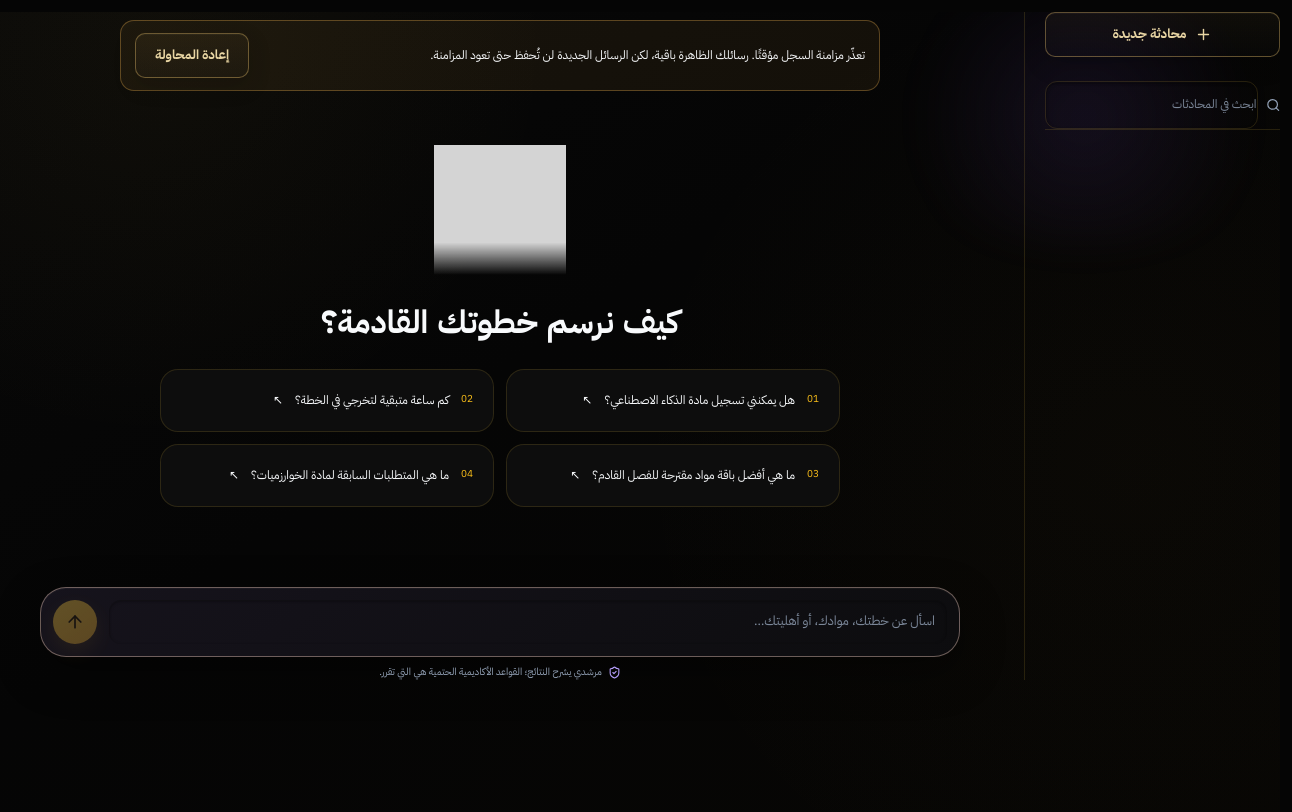
Test: student AI chat resilience › keeps history failure non-fatal and routes general chat through the student AI endpoint
Expected: the text "تعذّر مزامنة السجل مؤقتًا" is shown, x1=430 y1=46 x2=865 y2=64
In the text box named "الاستفسار الأكاديمي": {"x": 528, "y": 622} x1=109 y1=600 x2=947 y2=644, type "كيفك؟"
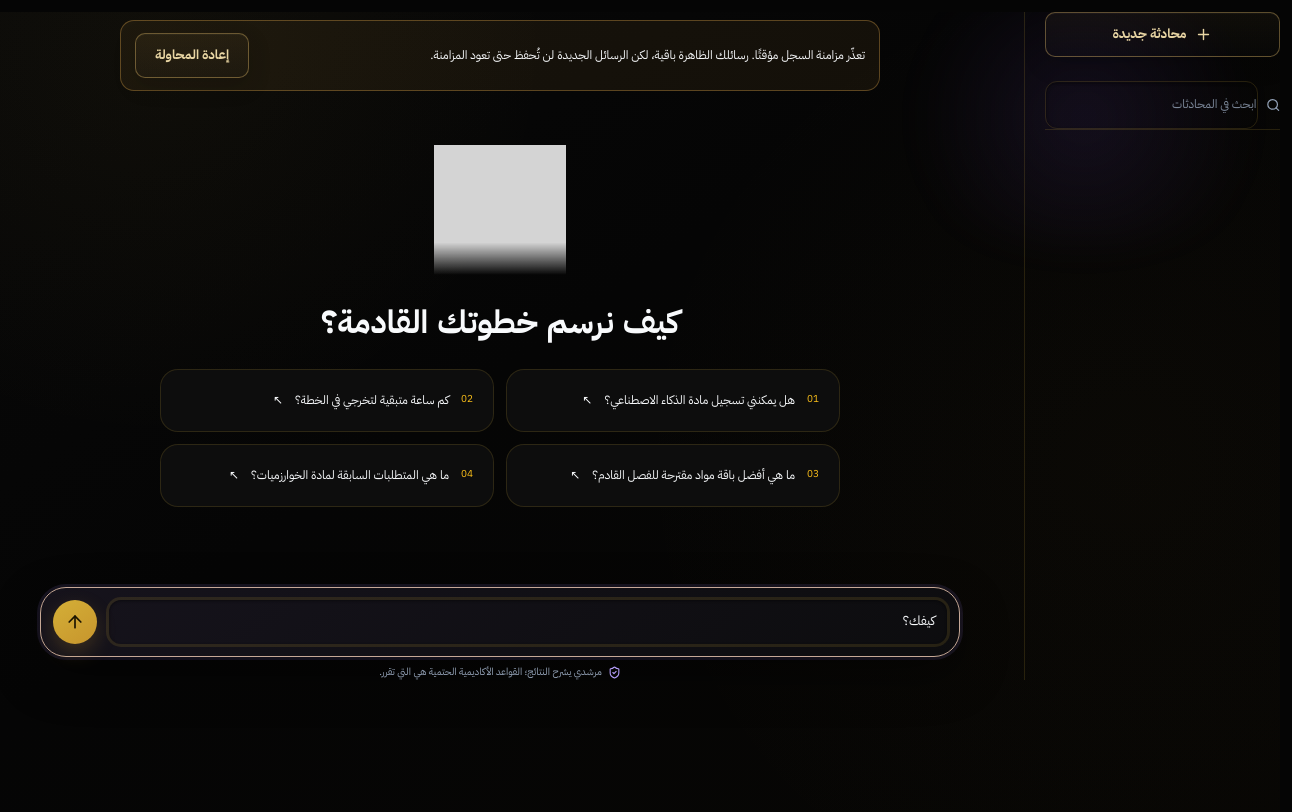
Result: the button named "إرسال" is enabled
Click the button named "إرسال": {"x": 75, "y": 622} x1=53 y1=600 x2=97 y2=644
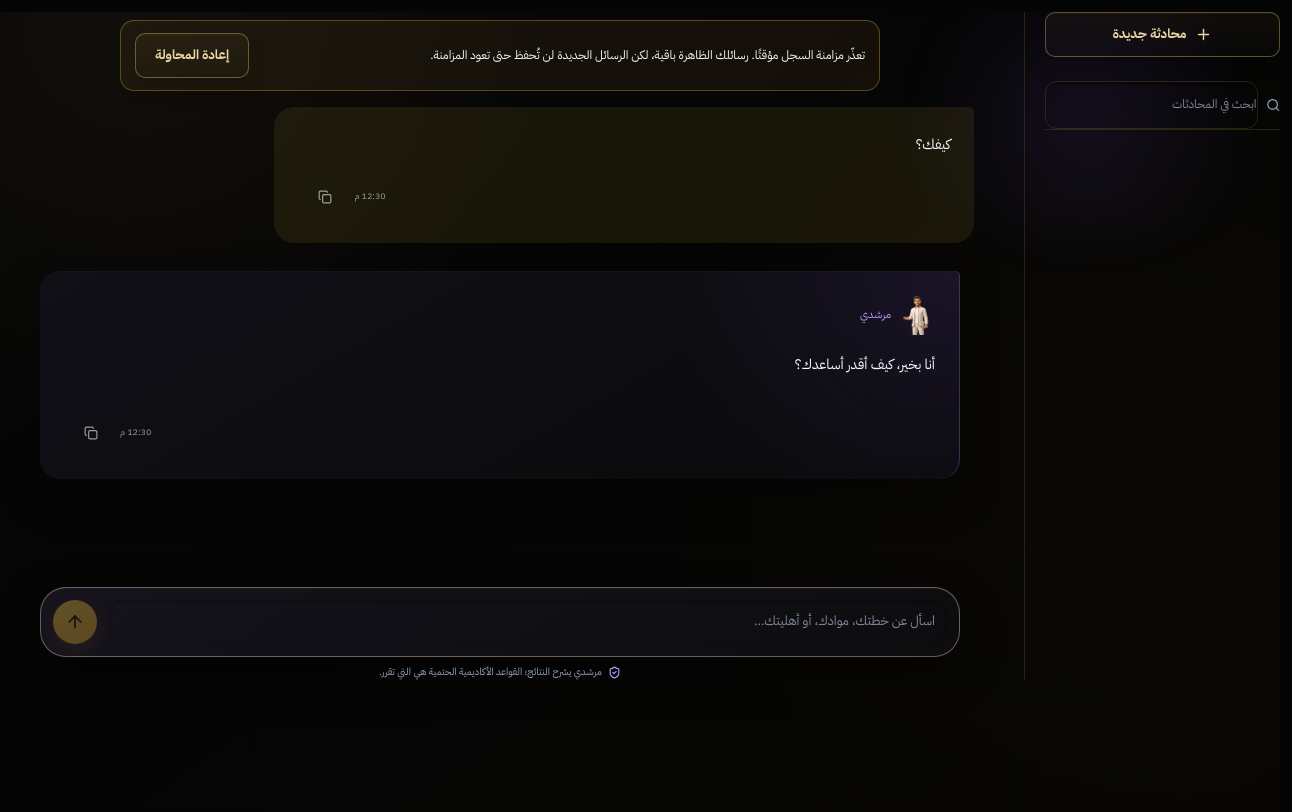
Result: the text "أنا بخير، كيف أقدر أساعدك؟" is shown at x1=795 y1=354 x2=935 y2=375
Result: the text "كيفك؟" is shown at x1=916 y1=134 x2=950 y2=155
